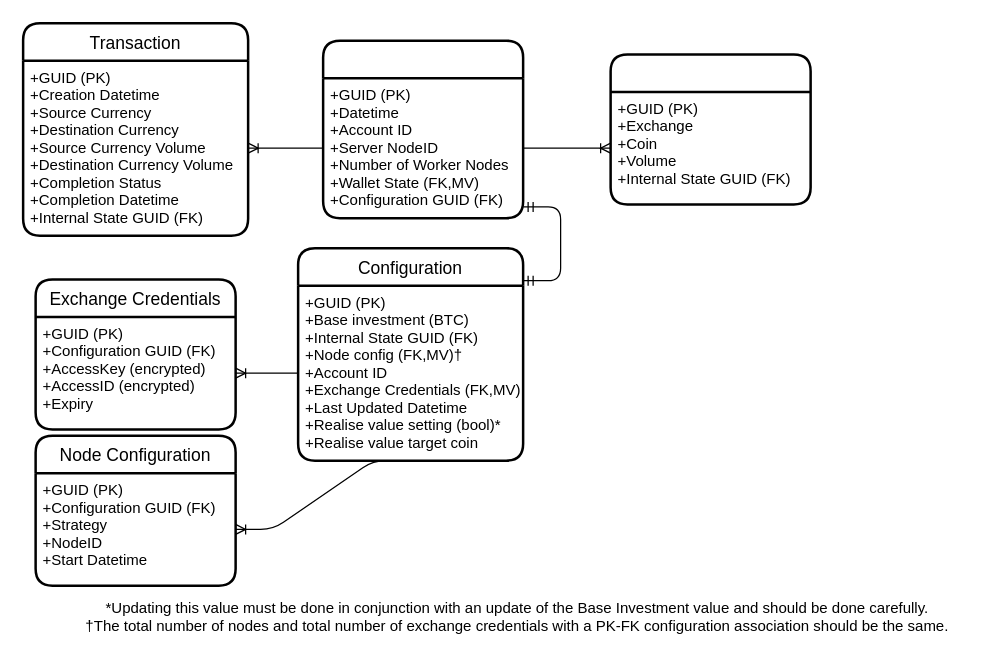
Some shapes in this 981 by 656 pixel diagram are drawn without their labels. The box of each missing label's shape, as (x1, y1, x2, y2) in pixels:
Internal State: (321, 39, 524, 219)
Wallet State: (609, 52, 811, 205)
